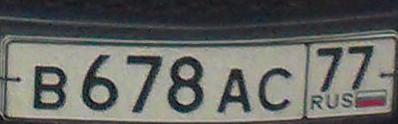character: (124, 54, 164, 116), (80, 54, 121, 113), (167, 54, 205, 114), (31, 62, 69, 113), (217, 68, 254, 117), (257, 68, 294, 111), (347, 43, 375, 92), (316, 47, 342, 93)
